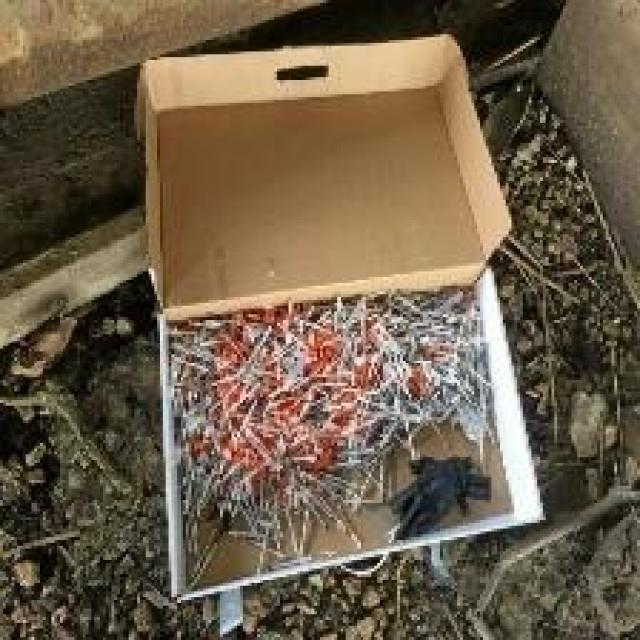syringe: (168, 303, 486, 542)
